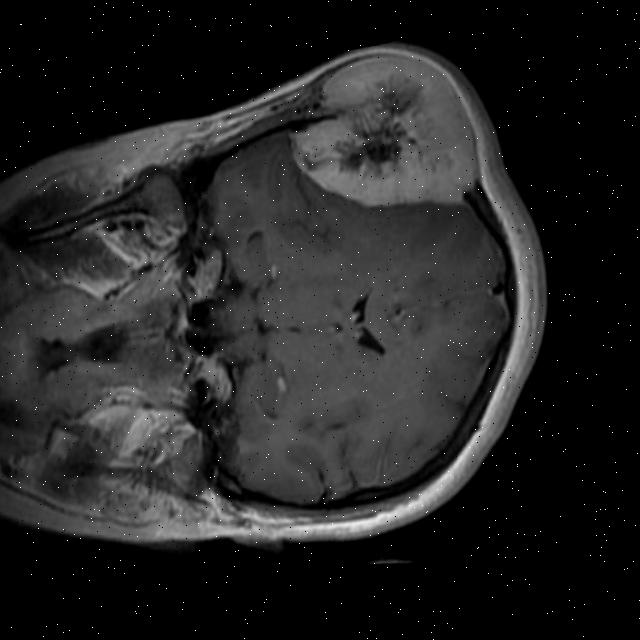Meningioma: (272, 42, 492, 225)
